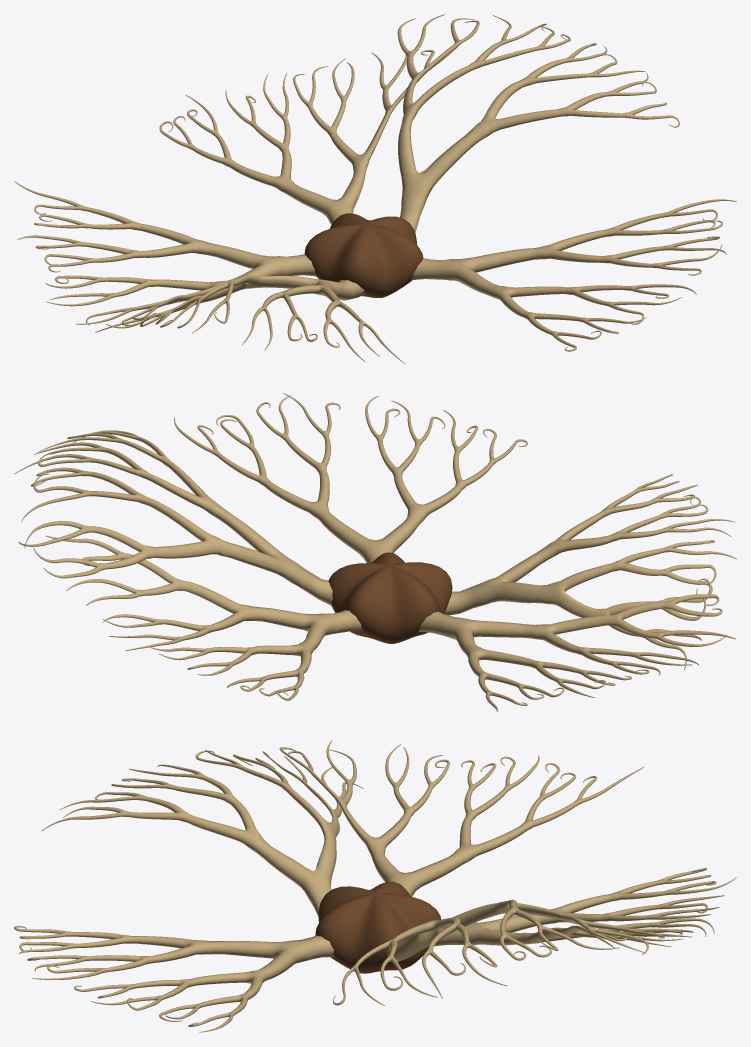
Rendered from NEW695_BasketStar_LOD0.glb.
3 renders of one model, top to bottom at view 1: azimuth 30°, elevation 25°; view 2: azimuth 150°, elevation 25°; view 3: azimuth 270°, elevation 25°, orthographic. The views are drawn at different scales.
Parts seen in each view (by area): view 1: Basket_star_connected_five_primary_arms, Volumetric_central_disc_with_five_radial_shoulders; view 2: Basket_star_connected_five_primary_arms, Volumetric_central_disc_with_five_radial_shoulders; view 3: Basket_star_connected_five_primary_arms, Volumetric_central_disc_with_five_radial_shoulders.
Part boxes in pixels (x1=…): Basket_star_connected_five_primary_arms: x1=14, y1=14, x2=736, y2=364; Volumetric_central_disc_with_five_radial_shoulders: x1=304, y1=213, x2=423, y2=297; Basket_star_connected_five_primary_arms: x1=14, y1=393, x2=736, y2=711; Volumetric_central_disc_with_five_radial_shoulders: x1=328, y1=552, x2=452, y2=643; Basket_star_connected_five_primary_arms: x1=14, y1=740, x2=736, y2=1032; Volumetric_central_disc_with_five_radial_shoulders: x1=315, y1=881, x2=441, y2=973.
Size of the model in its own units: 0.3 by 0.0679 by 0.2813.
1 material, 1 textured.
